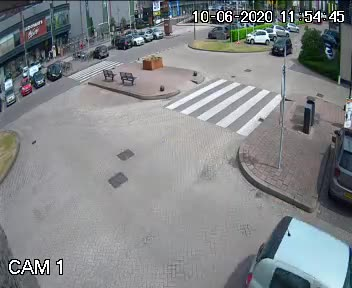car: (246, 205, 352, 288), (269, 35, 296, 58)
